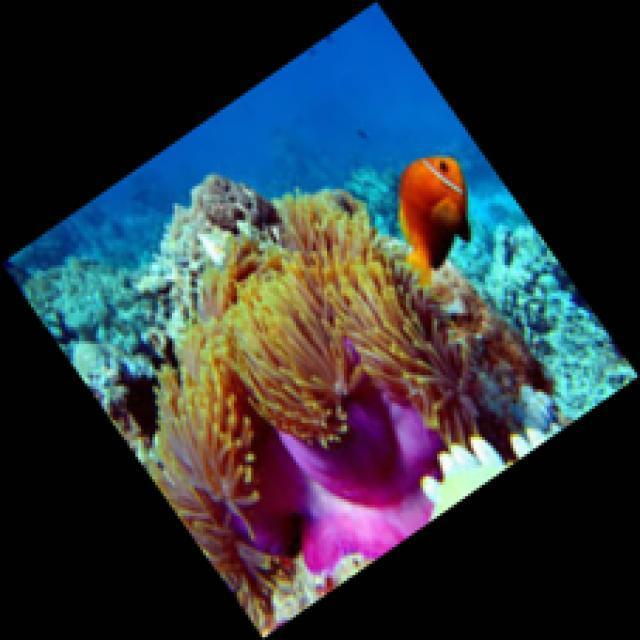Bleached: (421, 422, 512, 525), (512, 421, 564, 460)
Healthy: (149, 188, 485, 606)
